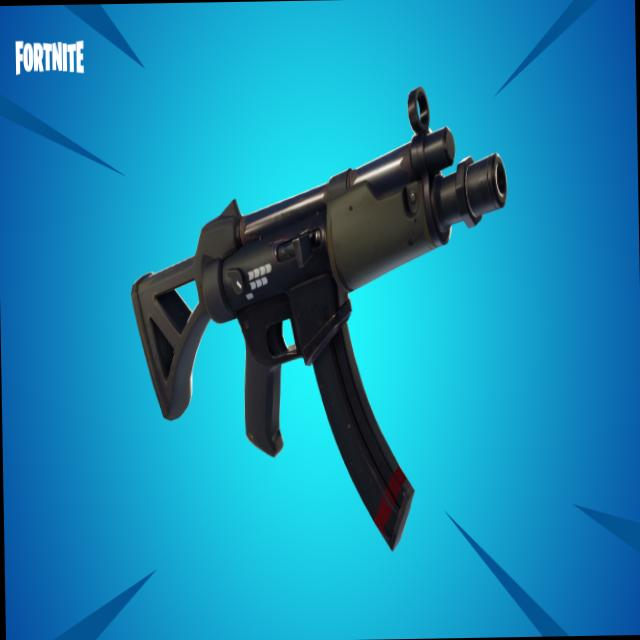Weapon: (124, 70, 526, 570)
